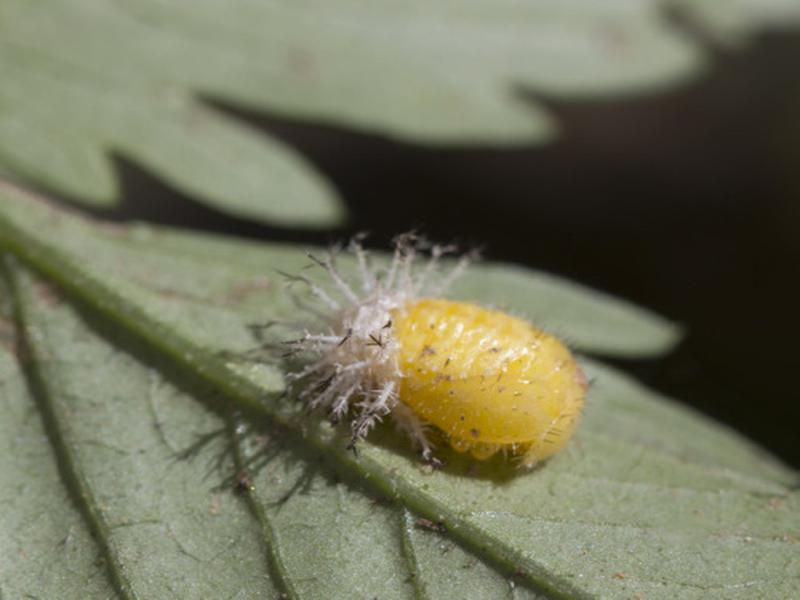Spiny_beetle: (238, 258, 600, 506)
